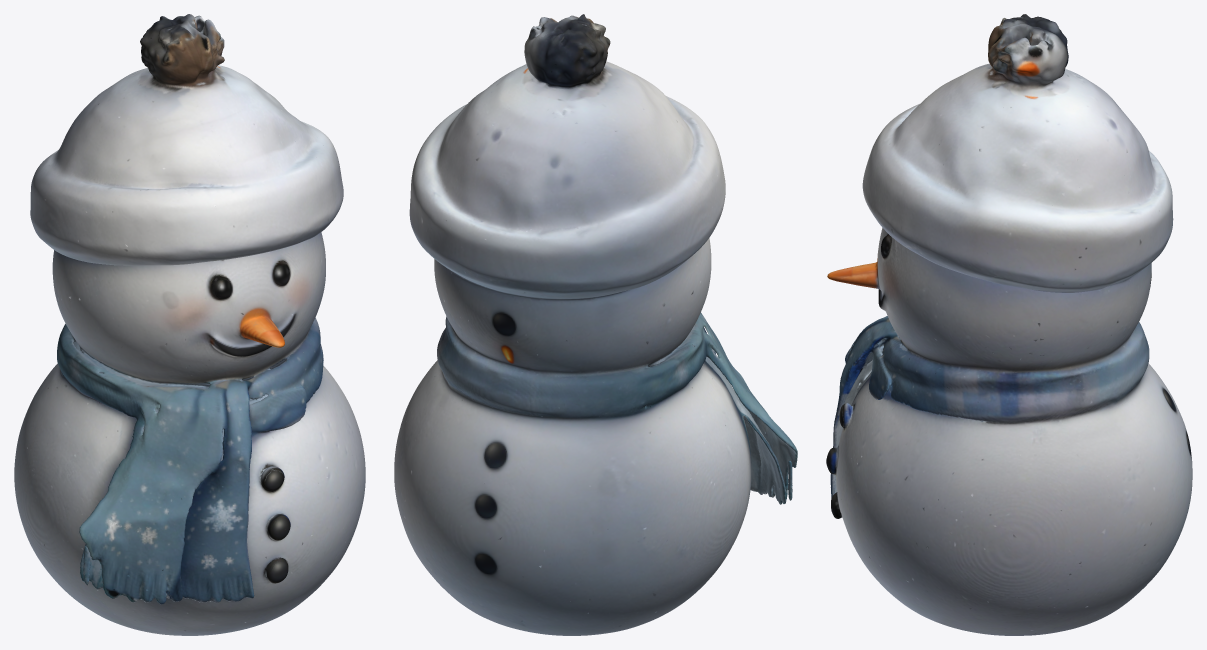
The model's file is Snowman.glb.
3 views of the same model, side by side, from view 1: azimuth 30°, elevation 25°; view 2: azimuth 150°, elevation 25°; view 3: azimuth 270°, elevation 25° (orthographic).
Size of the model in its own units: 1.14 by 1.99 by 1.13.
Materials: 1 (1 with a texture image).
